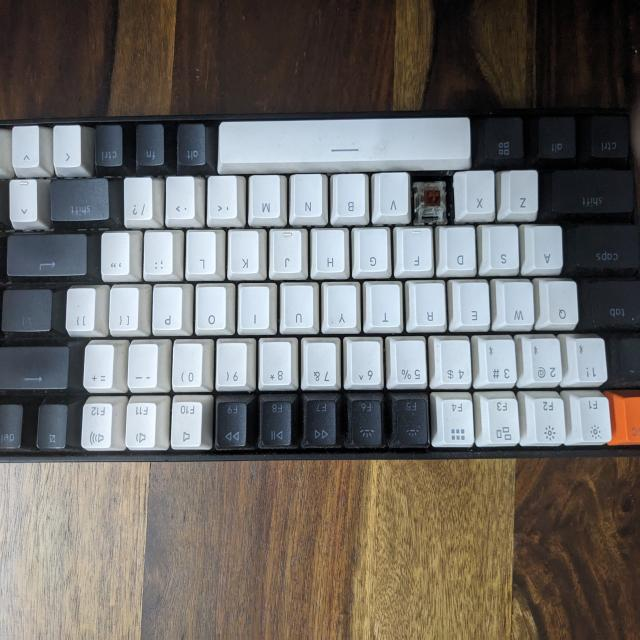C: (412, 176, 451, 225)
